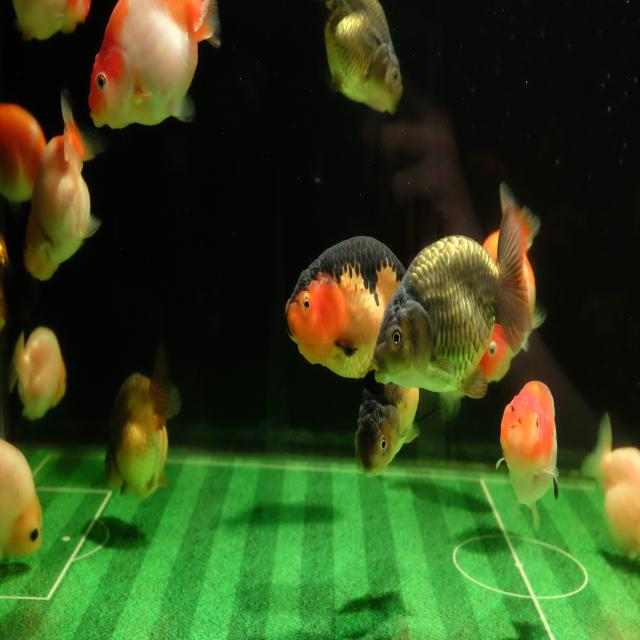Tilapia: (373, 208, 532, 396), (87, 0, 222, 132), (284, 235, 406, 381), (22, 89, 105, 282), (103, 341, 183, 504), (495, 379, 560, 536), (322, 0, 402, 118), (581, 412, 640, 564), (354, 382, 419, 479), (0, 437, 44, 561), (11, 326, 67, 422), (0, 101, 46, 206), (10, 0, 90, 46)
